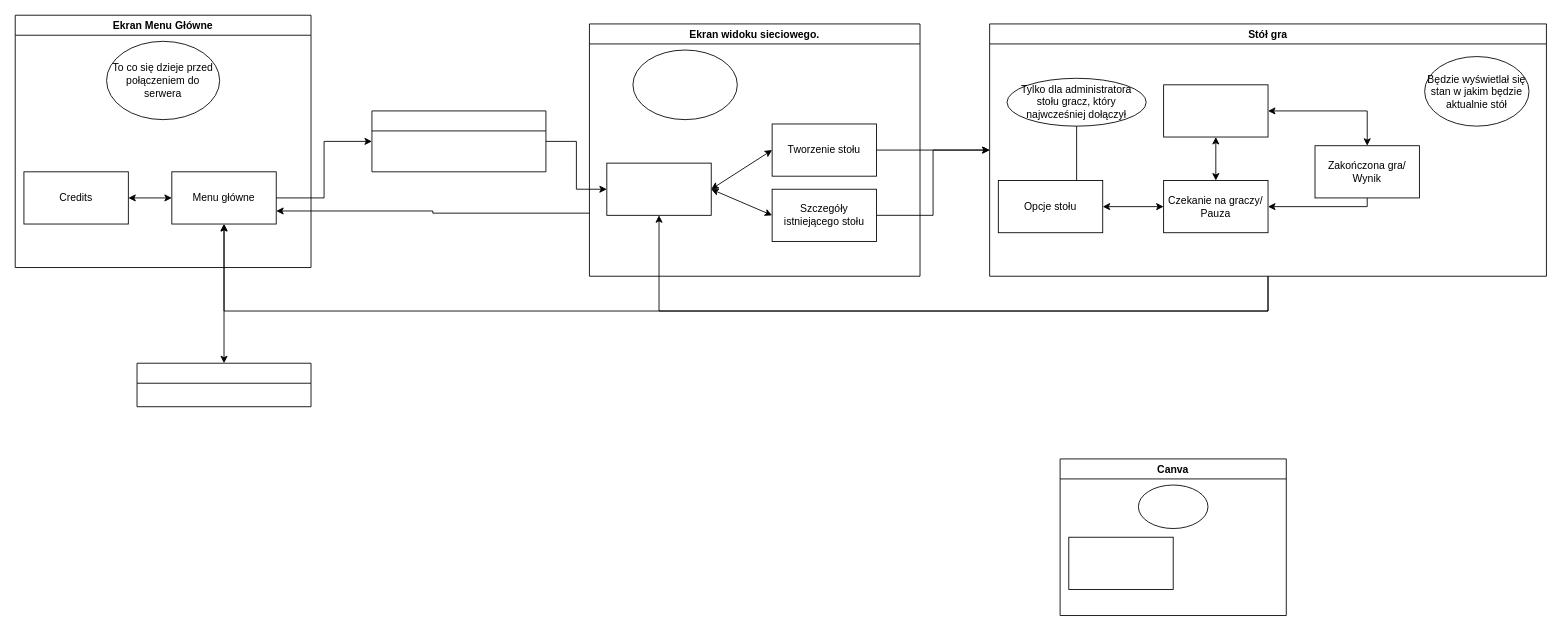
Some shapes in this 1562 by 631 pixel diagram are drawn without their labels. Each missing label, with the centre of its shape:
"Ekran łączenia do serwera" goes at (x=458, y=141).
"Komentarz" goes at (x=1173, y=506).
"Lista dostępnych stołów" goes at (x=658, y=188).
"Opcje" goes at (x=223, y=384).
"Poszczególne stany/ to co będziemy robić z daną Canvą. Wyskakujące okna." goes at (x=1120, y=562).
"To co można robić po połączeniu do serweru" goes at (x=684, y=84).
"Trwająca gra" goes at (x=1215, y=110).
